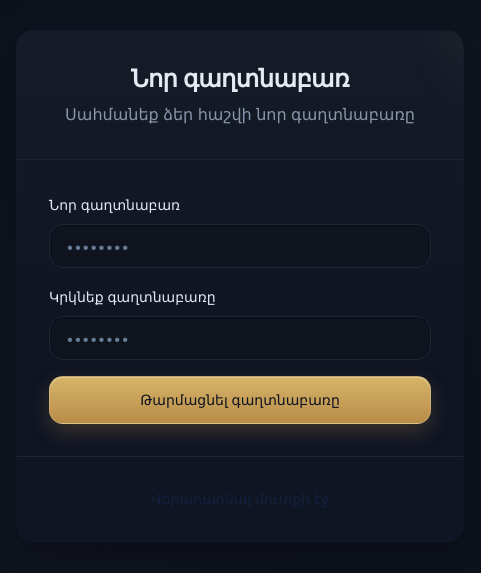
Test case: ResetPassword › validates minimum length and confirmation match
Type "short" into the password field with placeholder "••••••••" at (240, 246), box [49, 224, 431, 268]
Type "short" into the password field with placeholder "••••••••" at (240, 338), box [49, 316, 431, 360]
Click the button "Թարմացնել գաղտնաբառը" at (240, 400), box [49, 376, 431, 424]
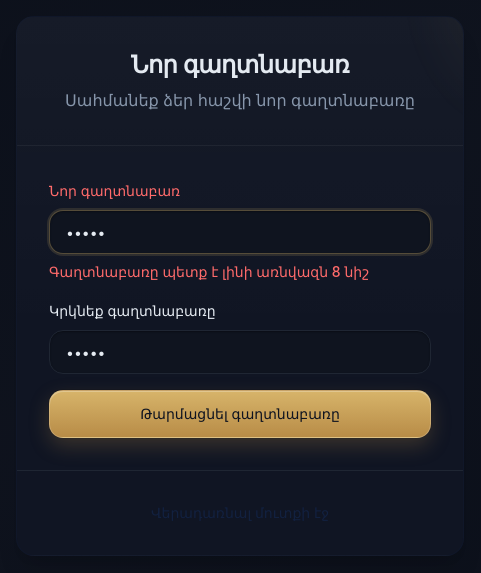
Result: the text "Գաղտնաբառը պետք է լինի առնվազն 8 նիշ" is shown at [49, 263, 369, 280]
Clear the password field with placeholder "••••••••" at (240, 232), box [49, 210, 431, 254]
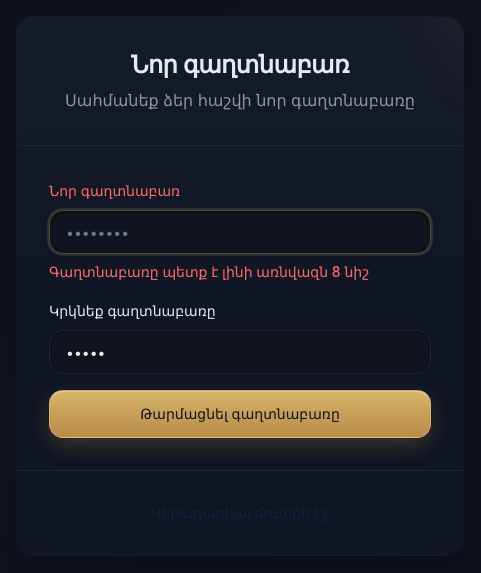
Clear the password field with placeholder "••••••••" at (240, 352), box [49, 330, 431, 374]
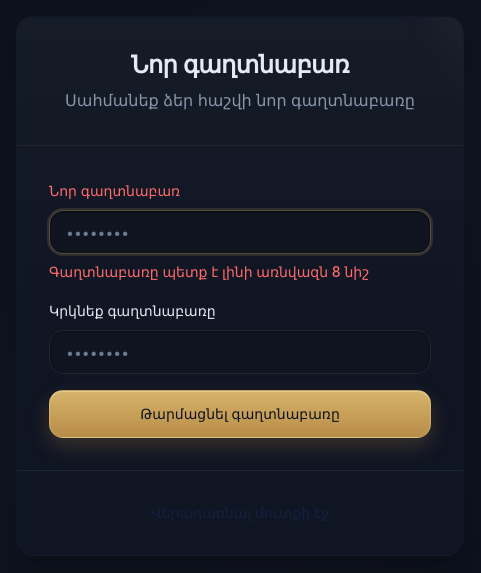
Type "longenough1" into the password field with placeholder "••••••••" at (240, 232), box [49, 210, 431, 254]
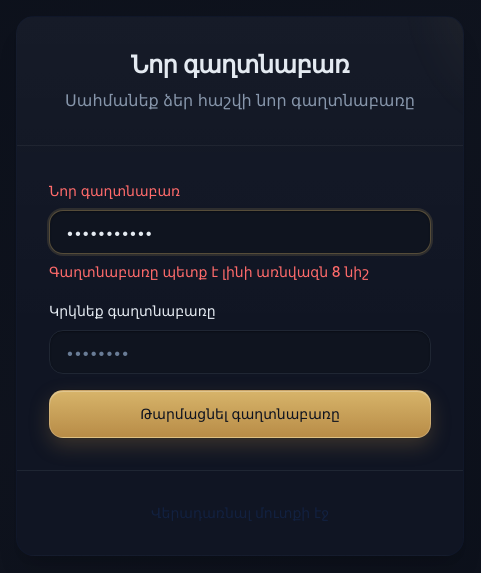
Type "different1" into the password field with placeholder "••••••••" at (240, 352), box [49, 330, 431, 374]
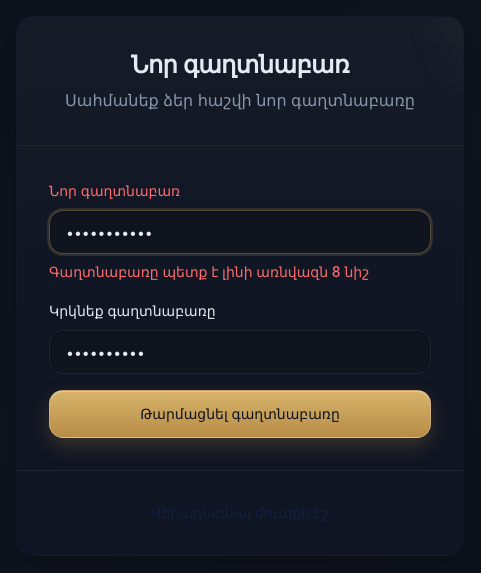
Click the button "Թարմացնել գաղտնաբառը" at (240, 414), box [49, 390, 431, 438]
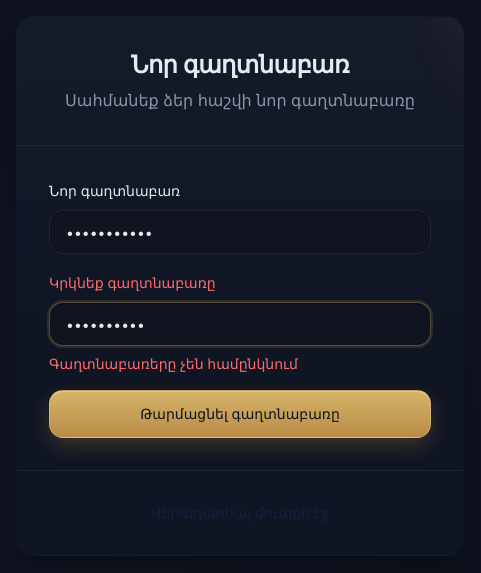
Result: the text "Գաղտնաբառերը չեն համընկնում" is shown at [49, 355, 298, 372]
